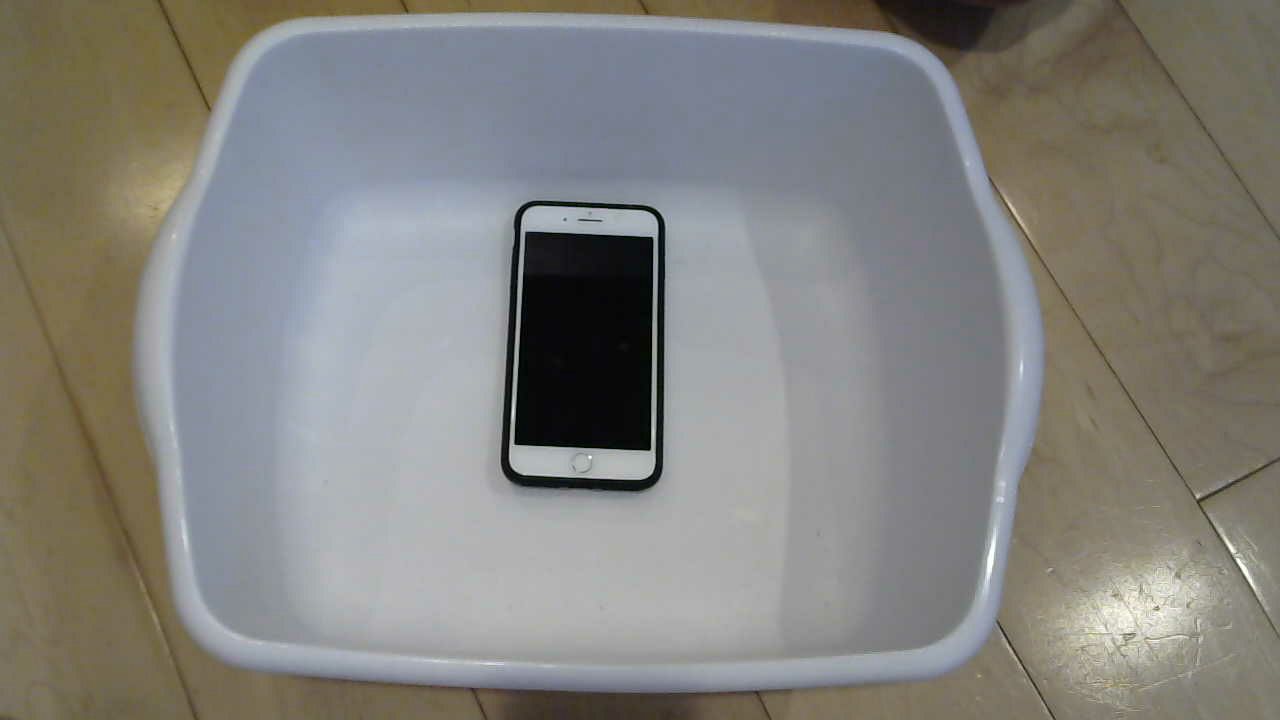phone: (479, 181, 686, 514)
